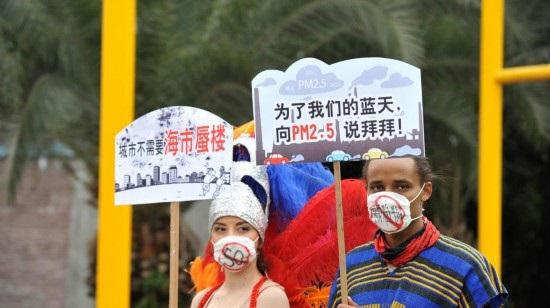OK: (207, 212, 267, 272), (365, 175, 424, 234)
